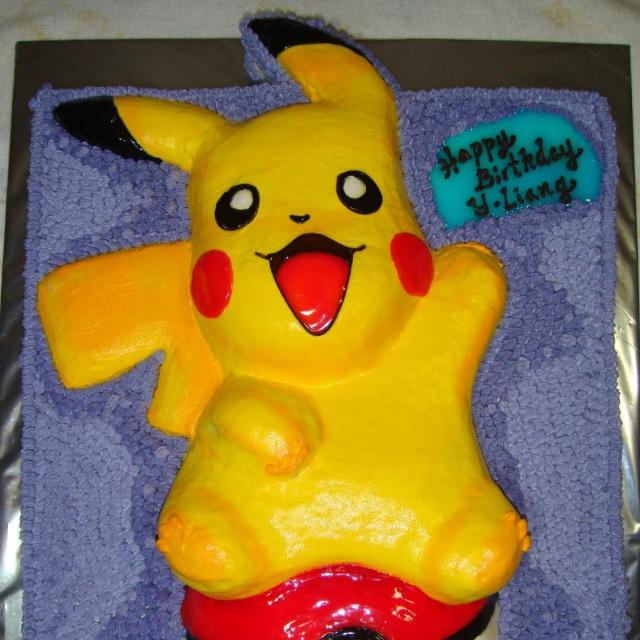pikachu: (36, 21, 510, 605)
